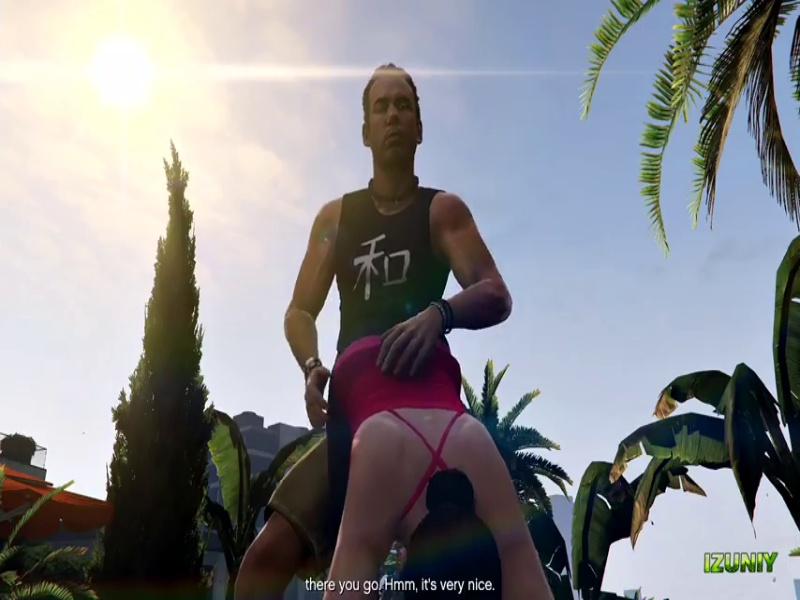human: (275, 67, 509, 446)
